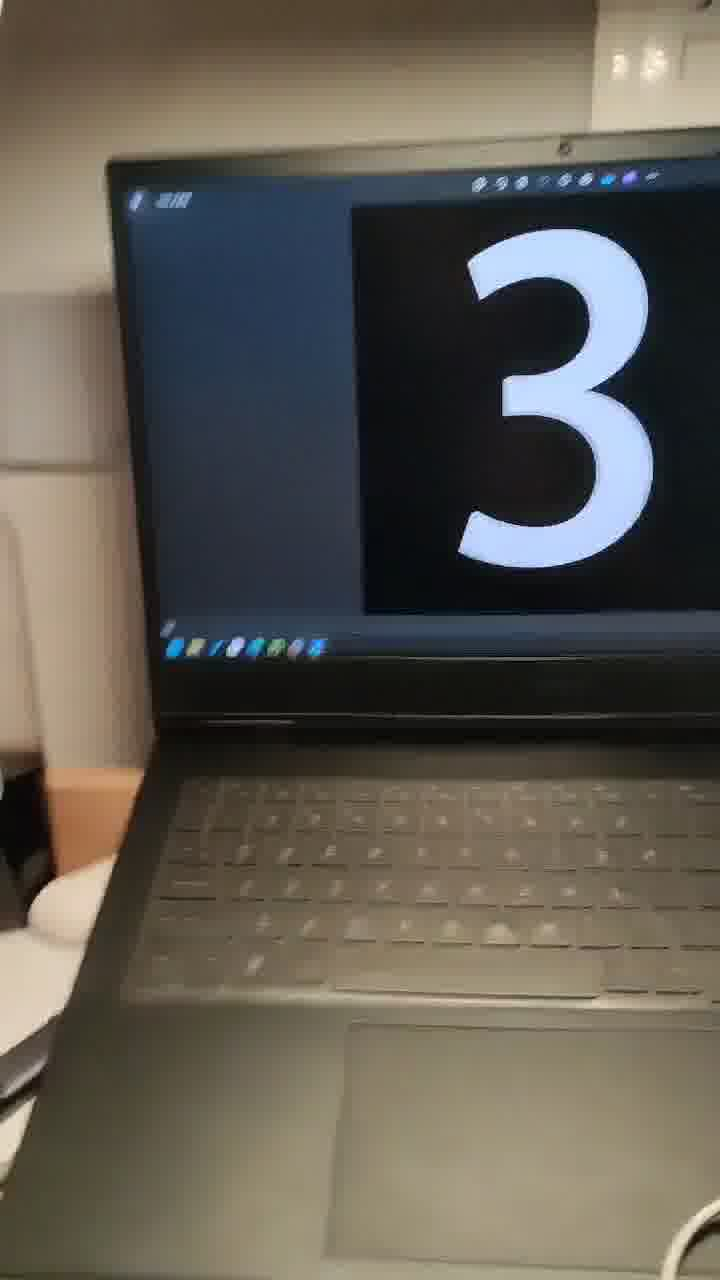three: (418, 197, 694, 691)
